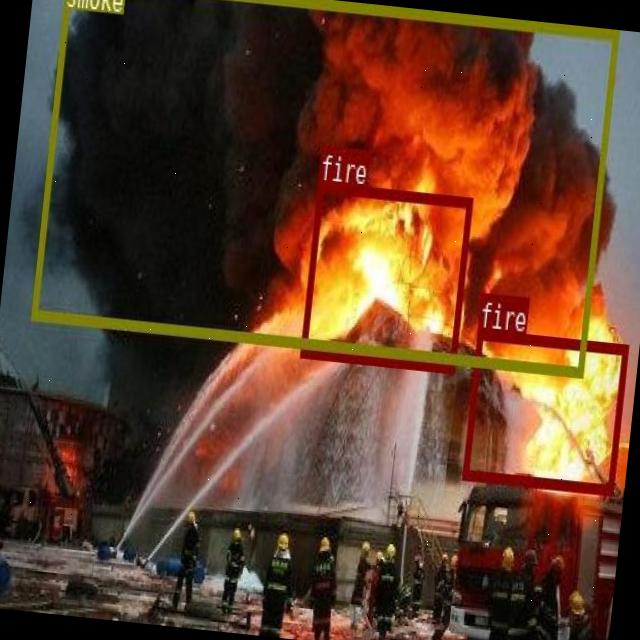fire: (299, 181, 472, 370), (460, 328, 628, 493)
smoke: (29, 0, 618, 375)
